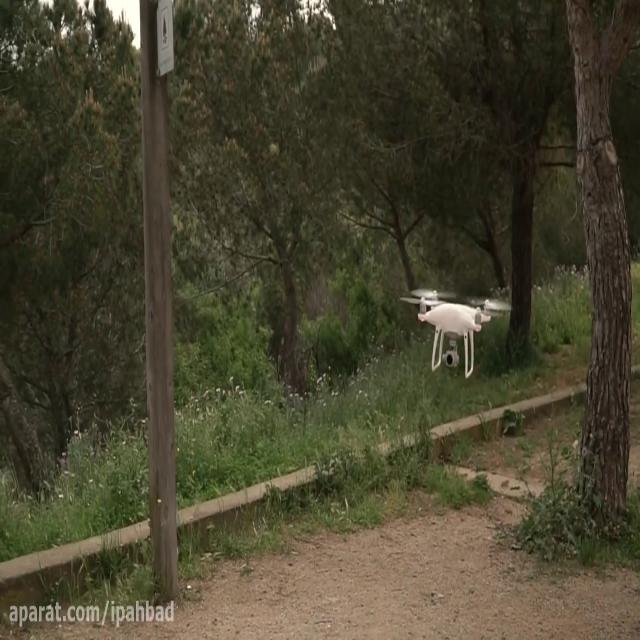drone: (398, 284, 512, 378)
